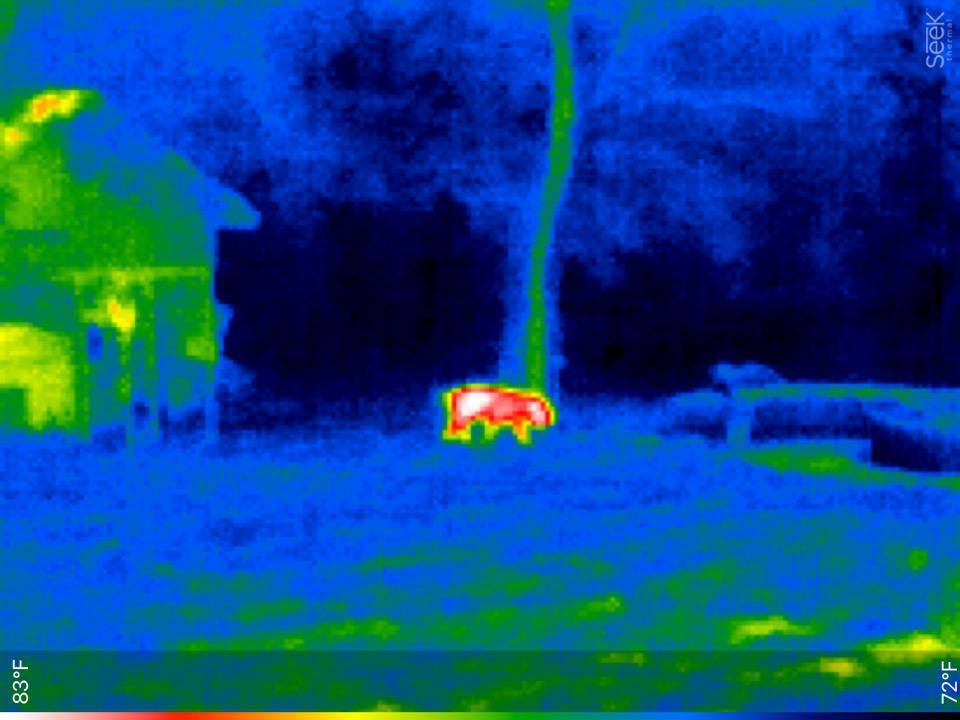dog: (437, 376, 557, 449)
